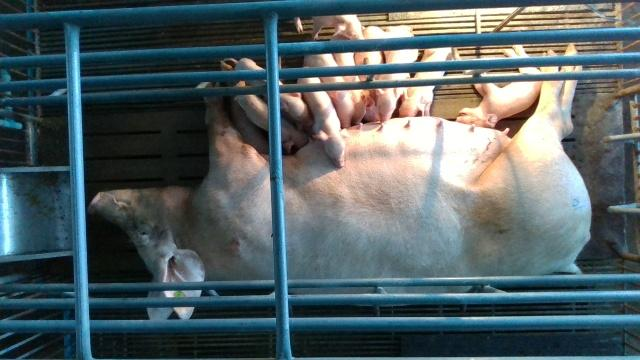piglet: (457, 45, 541, 128), (225, 58, 313, 129), (298, 67, 349, 168), (236, 95, 309, 153), (377, 26, 419, 121), (304, 51, 354, 127), (399, 47, 453, 117), (354, 26, 384, 122), (295, 15, 364, 41)
sow-sleep-lactate: (91, 42, 591, 320)
